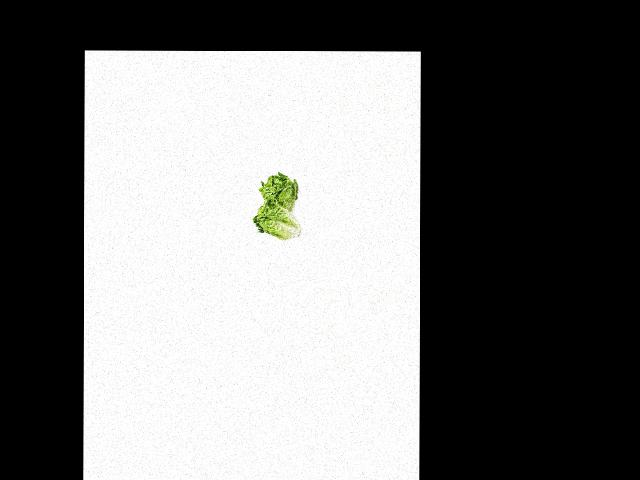lettuce: (258, 172, 303, 214)
